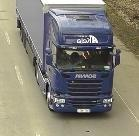Truck: (16, 0, 121, 114)
